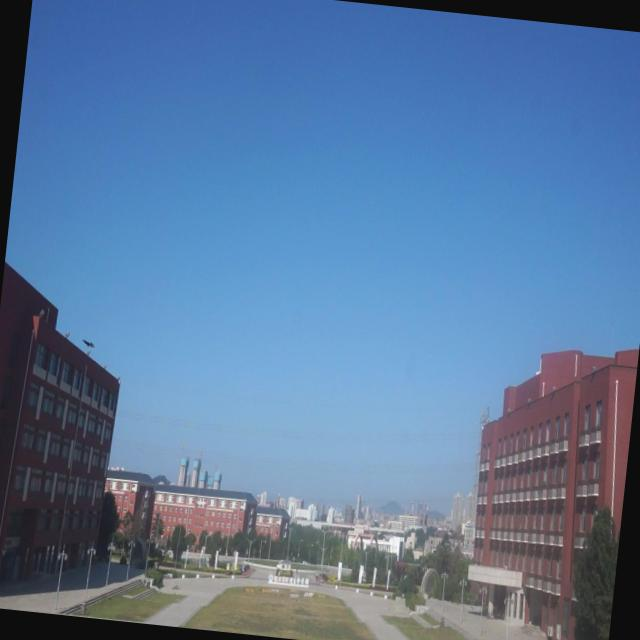drone: (80, 334, 96, 352)
